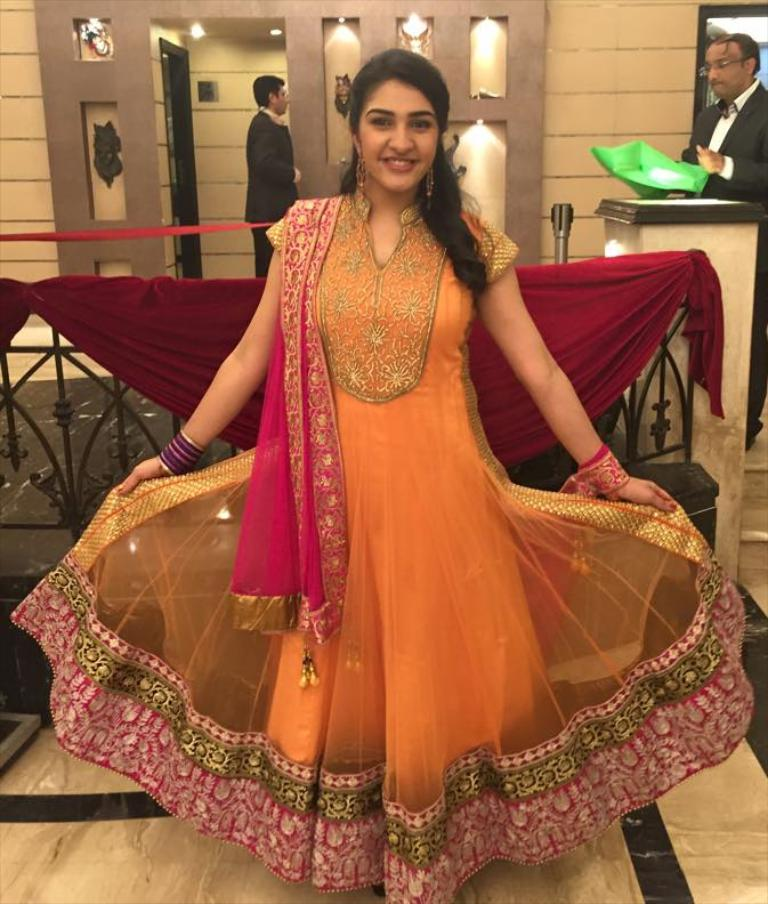person: (242, 72, 301, 276)
